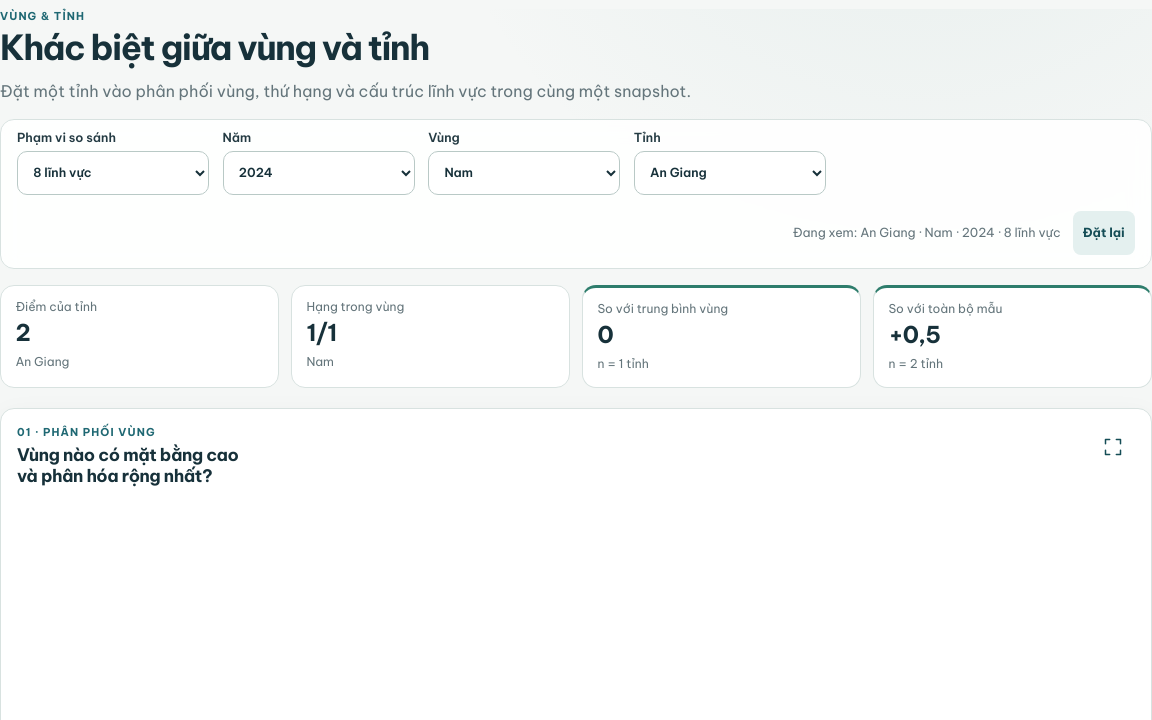
Test case: H2 chuẩn hóa region/province và đổi scale thì dùng năm hợp lệ, đồng thời giữ selection hợp lệ
expect the heading "Khác biệt giữa vùng và tỉnh" is shown: met, box x1=0 y1=25 x2=429 y2=69
Select "6 lĩnh vực gốc" in the dropdown labelled "Phạm vi so sánh": (113, 173) x1=17 y1=151 x2=209 y2=195
(page scrolled)
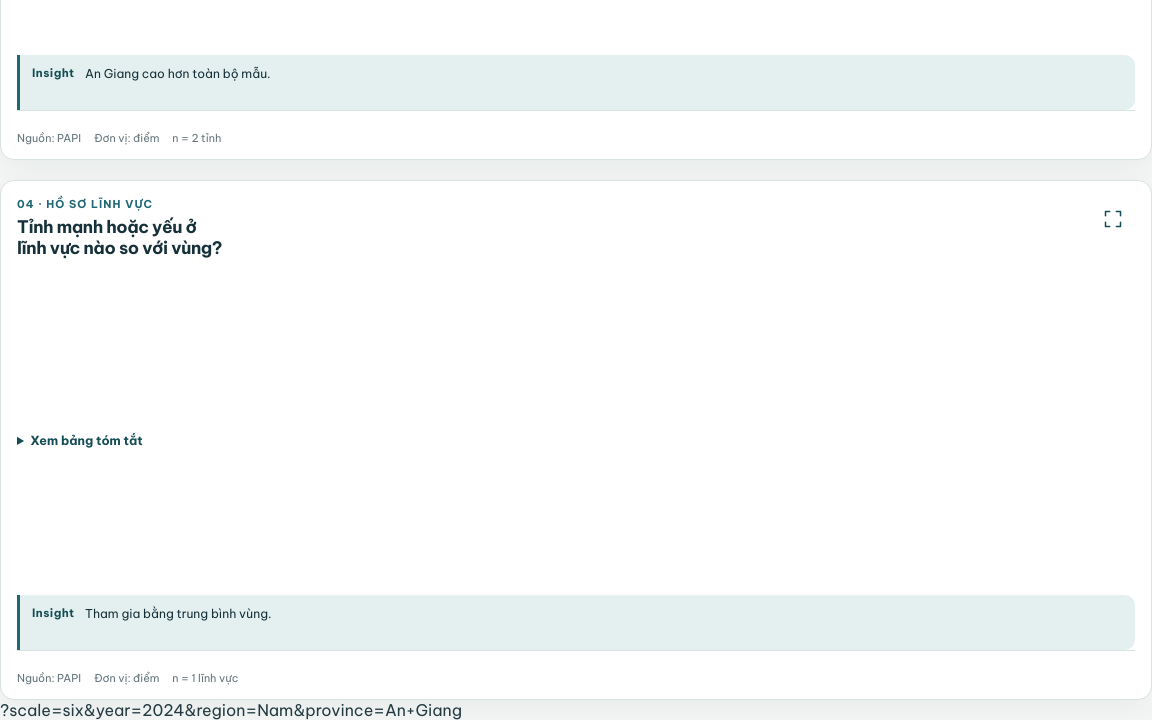
expect the text with test id "url" shows "scale=six&year=2024&region=Nam&province=An+Giang": met, box x1=0 y1=700 x2=462 y2=719
